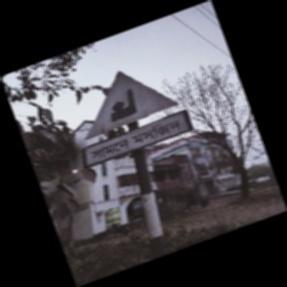Mosque in front: (83, 69, 190, 165)
